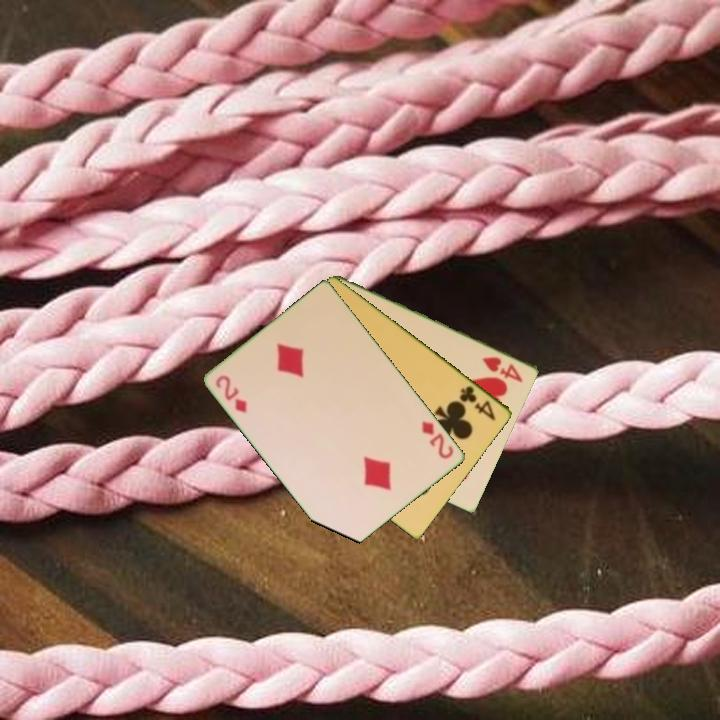2d: (418, 417, 457, 462), (212, 371, 250, 416)
4c: (456, 382, 499, 423)
4h: (479, 353, 526, 385)
